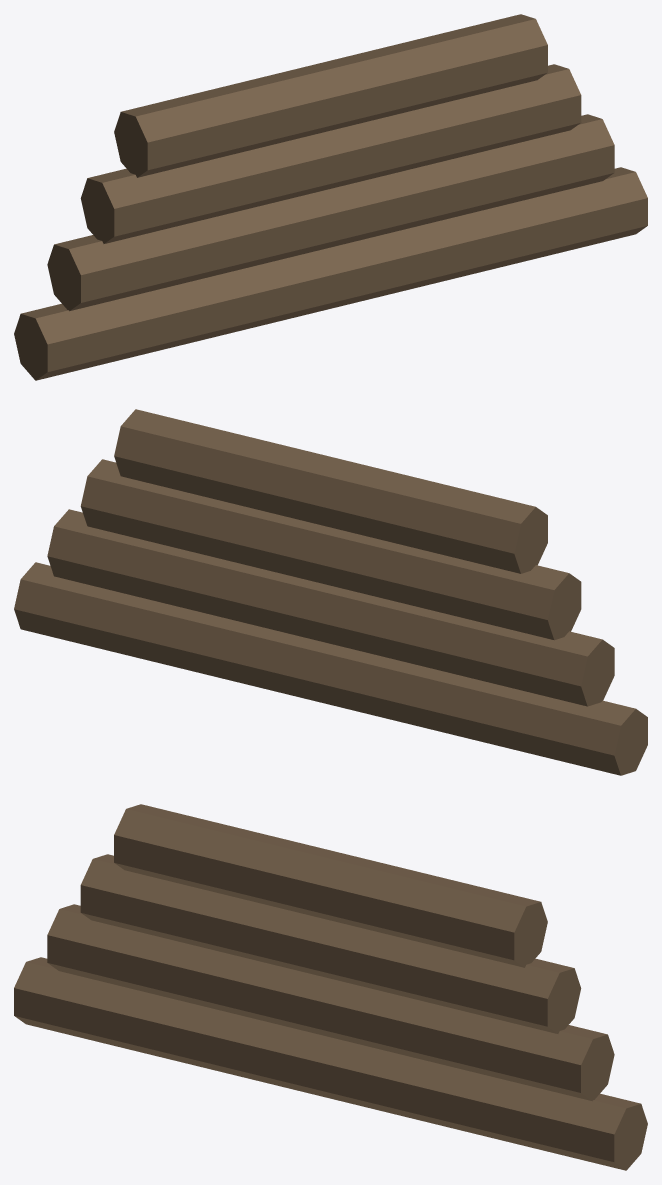
Rendered from firewood.glb.
3 views of the same model, one above another, from view 1: azimuth 30°, elevation 25°; view 2: azimuth 150°, elevation 25°; view 3: azimuth 330°, elevation 25° (orthographic).
Parts seen in each view (by area): view 1: firewood; view 2: firewood; view 3: firewood.
Boxes of the visible parts, x1,y1,x2,y2 form: firewood: (14,14,647,380); firewood: (14,409,647,775); firewood: (14,804,647,1170).
Bounding box in the file's own units: 1.08 × 0.4122 × 0.1046.
